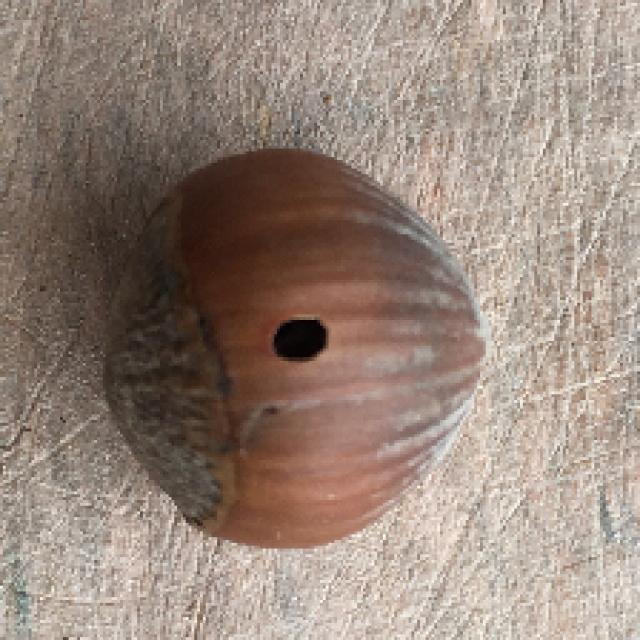DamagedHazelnut: (101, 154, 485, 552)
